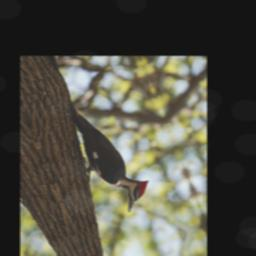Woodpecker: (47, 74, 157, 225)
